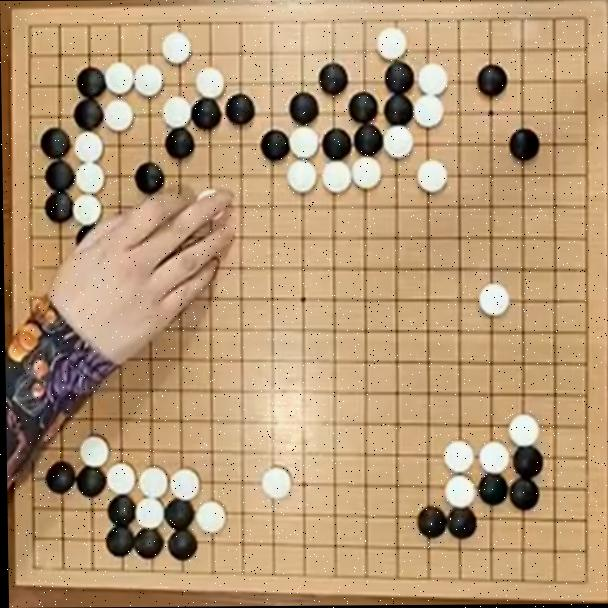corners: (6, 2, 56, 53), (12, 542, 57, 586), (557, 557, 604, 599), (559, 0, 601, 46)
